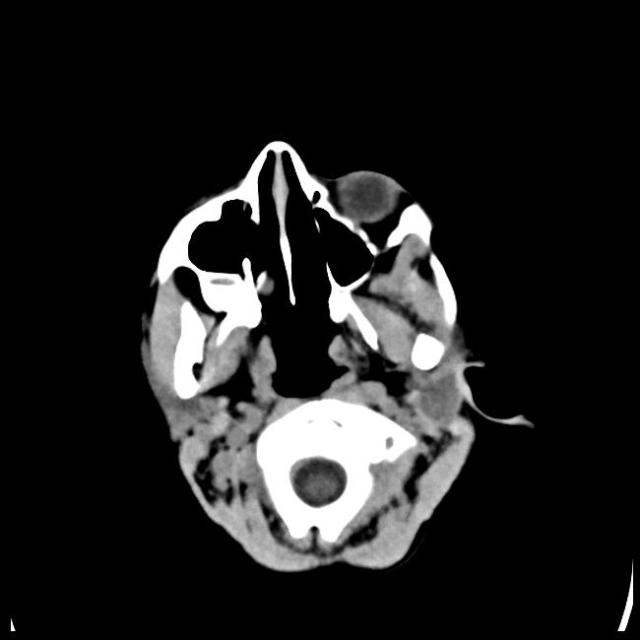lesion: (134, 137, 529, 576)
